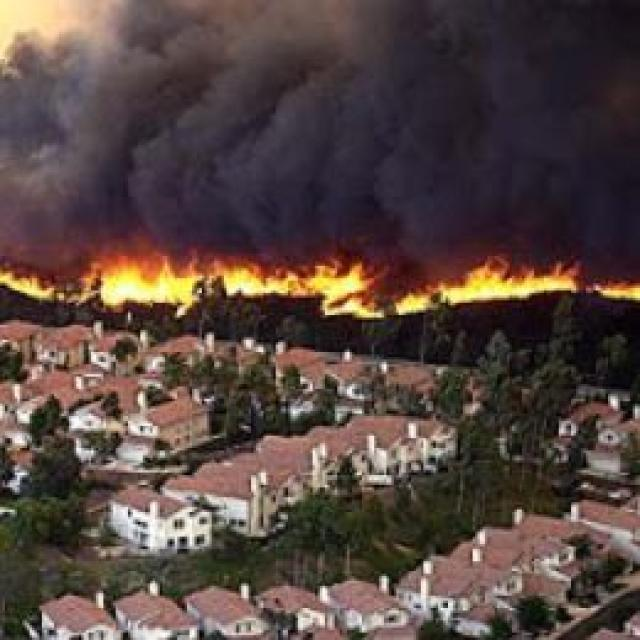Fire: (0, 258, 640, 322)
Smoke: (3, 2, 639, 236)
